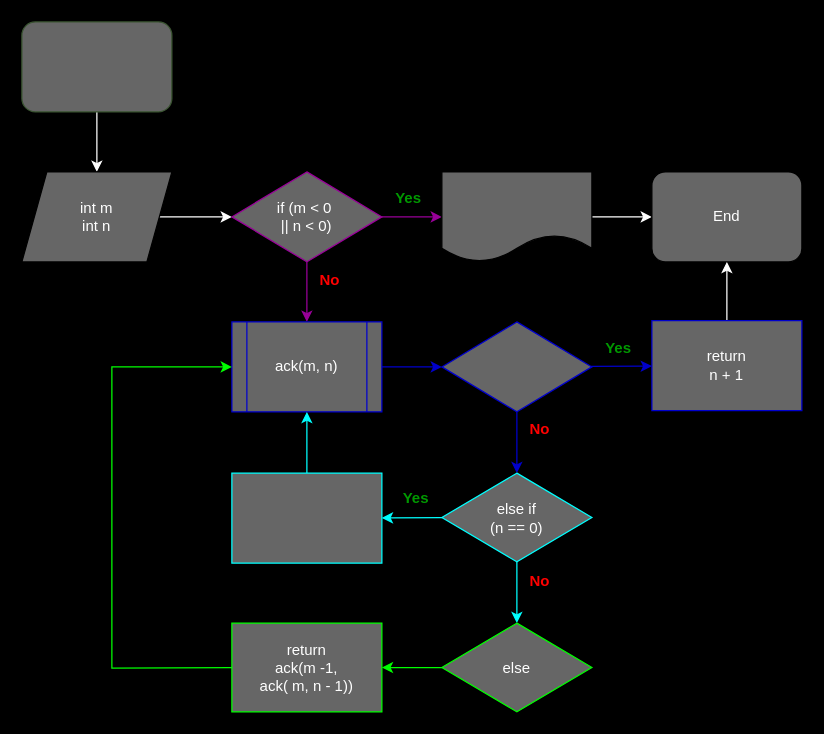
Image size: 824x734. Some labels were removed from this diagram. The shapes that lost their labels are listed below. From the top down, each one's centre as x and y in pixels, then its label:
At (96,66): "Begin".
At (516,216): "Console.WriteLine (Error)".
At (516,366): "if (m == 0)".
At (306,517): "return ack(m - 1, 1)".
